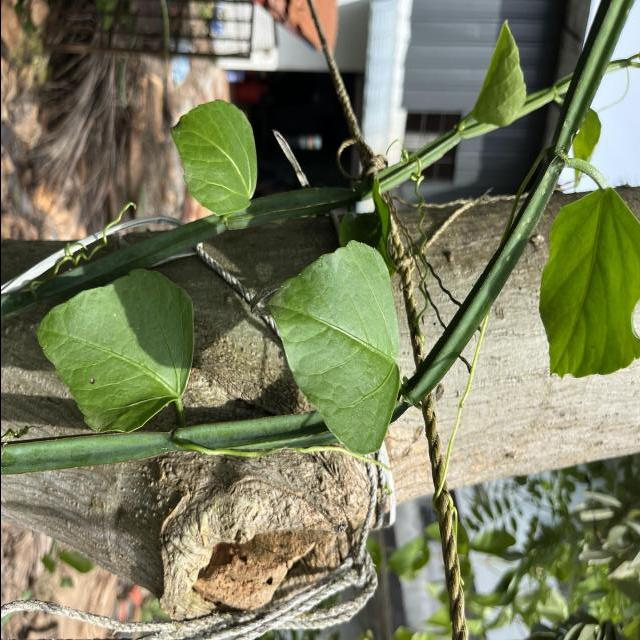Cissus quadrangularis: (260, 236, 402, 457), (30, 266, 196, 440)
